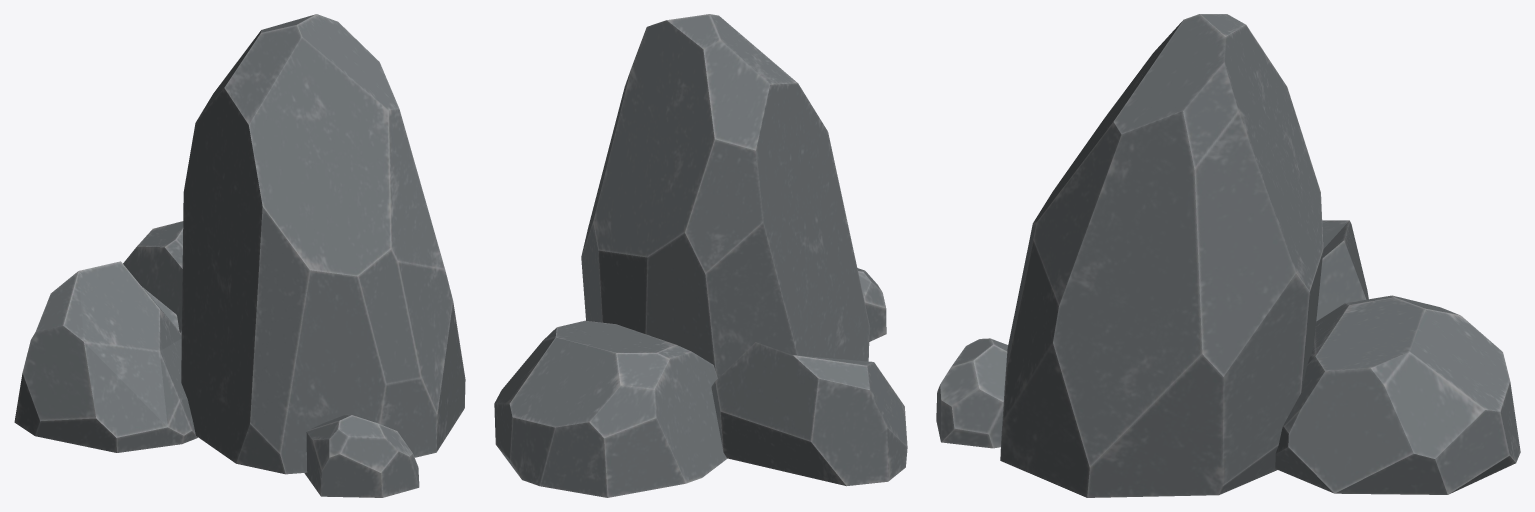
Rendered from rocks.gltf.
3 renders of one model, left to right at view 1: azimuth 30°, elevation 25°; view 2: azimuth 150°, elevation 25°; view 3: azimuth 270°, elevation 25°, orthographic. The views are drawn at different scales.
Parts seen in each view (by area): view 1: rocks; view 2: rocks; view 3: rocks.
Boxes of the visible parts, x1,y1,x2,y2 form: rocks: (14,14,465,497); rocks: (494,14,907,497); rocks: (936,14,1520,497).
Bounding box in the file's own units: 0.9733 × 1 × 1.25.
1 material, 1 textured.
